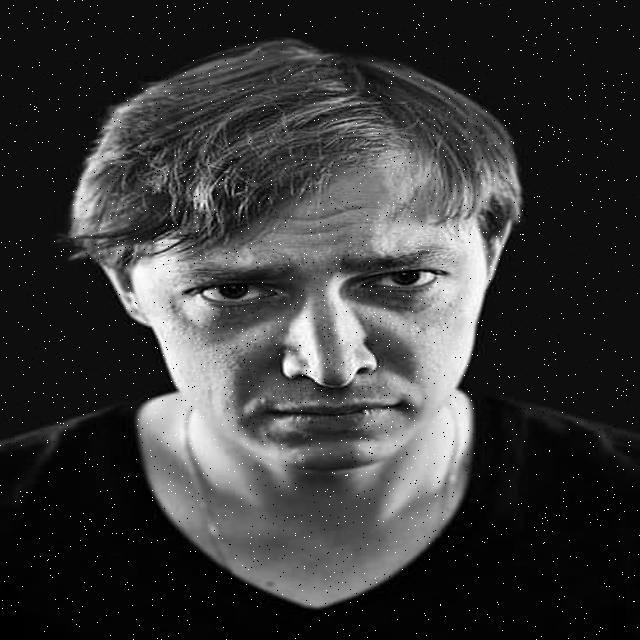Sadness: (166, 167, 466, 470)
